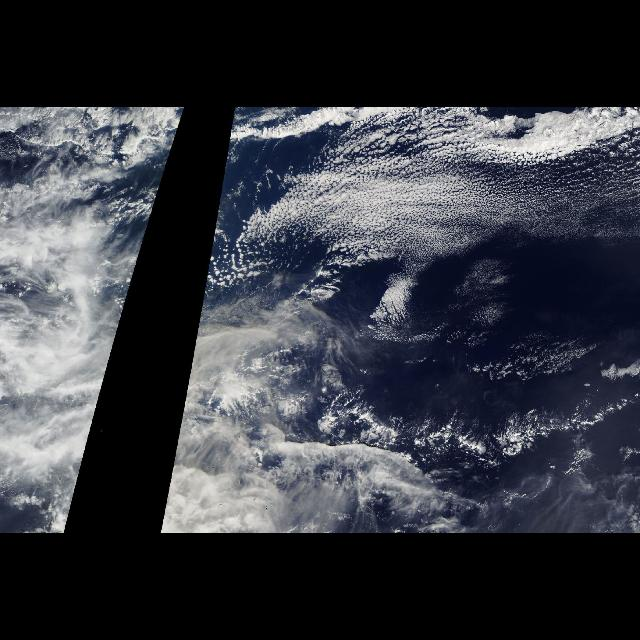Sugar: (188, 114, 640, 380), (98, 114, 184, 380)
